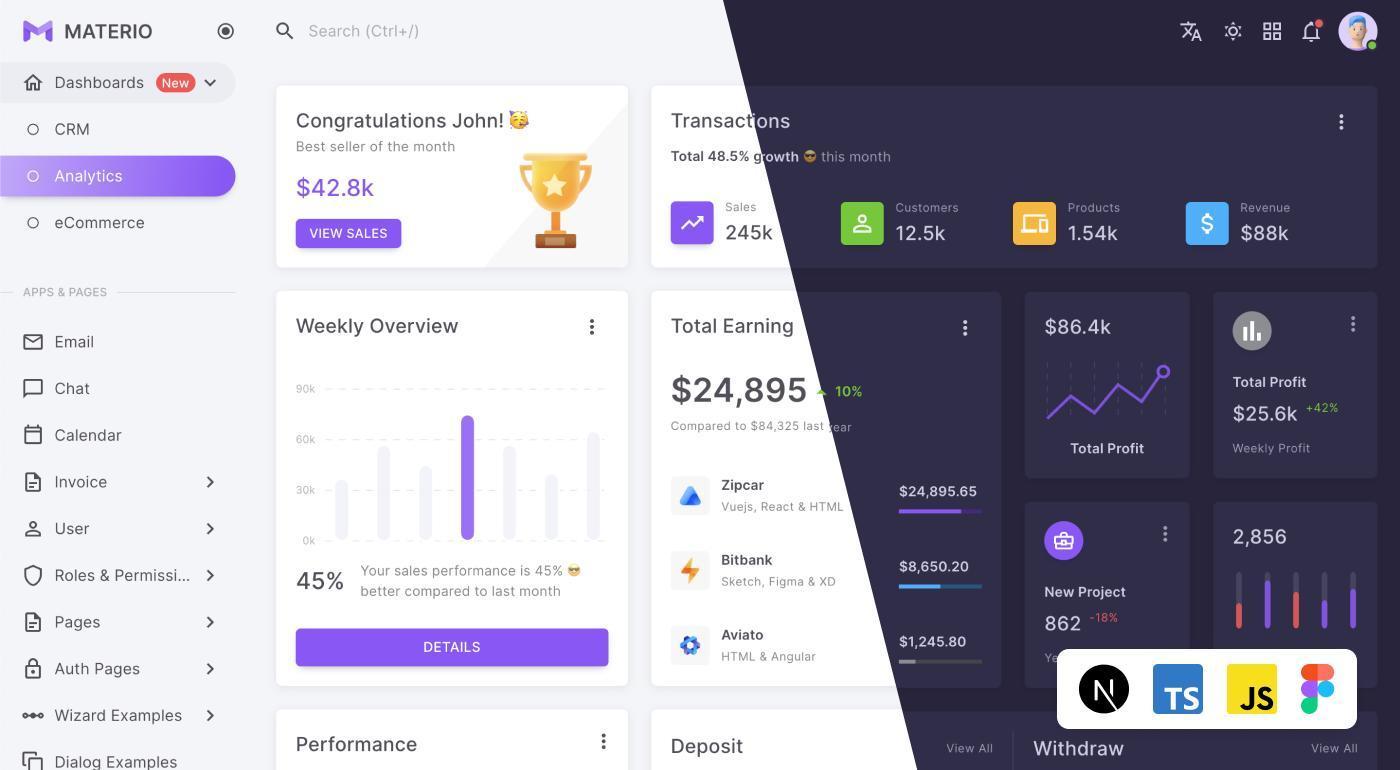button: (296, 628, 611, 668), (1, 155, 239, 199), (297, 219, 403, 250)
dropdown: (7, 64, 243, 100)
icon: (1018, 212, 1053, 238), (1218, 20, 1249, 47), (850, 210, 876, 241), (681, 209, 709, 237), (1302, 18, 1329, 46), (1262, 19, 1291, 45), (20, 70, 48, 96), (1180, 20, 1207, 46), (21, 375, 46, 402), (1334, 109, 1355, 140), (272, 17, 296, 43), (22, 471, 45, 497), (18, 748, 45, 770), (1198, 213, 1220, 240), (21, 333, 47, 355), (23, 422, 46, 446), (22, 564, 43, 590), (24, 657, 45, 683), (25, 609, 44, 636), (24, 519, 46, 541), (20, 705, 46, 723), (1346, 313, 1362, 339)
